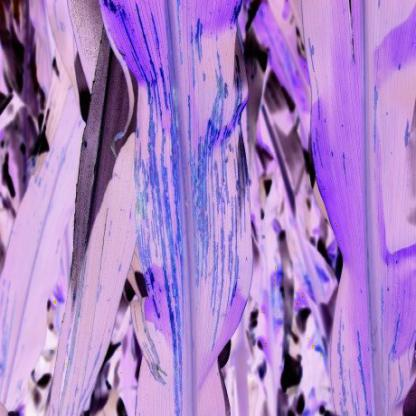Corn leaf blight: (102, 1, 261, 415), (298, 1, 413, 415), (53, 13, 133, 409), (5, 93, 81, 412)
